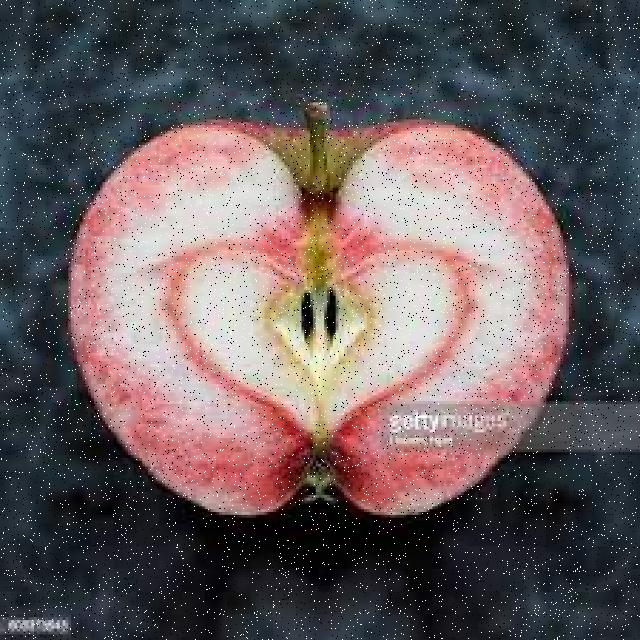Apple: (71, 123, 567, 518)
